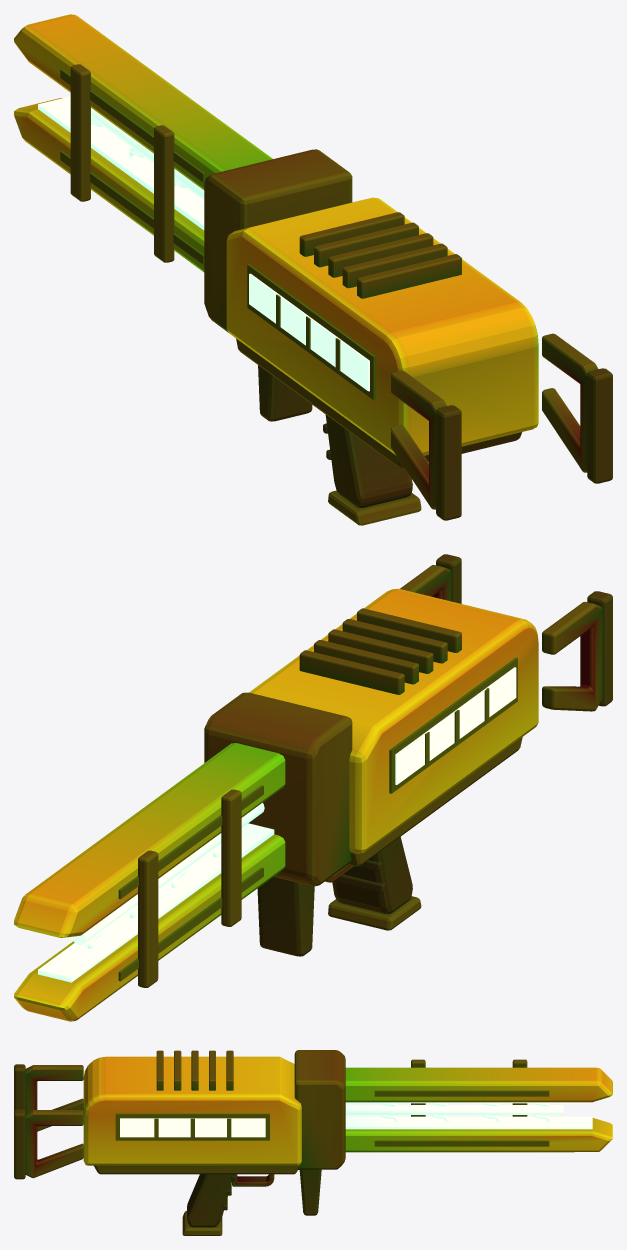
The model's file is titan_weapon_splitter.glb.
3 renders of one model, top to bottom at view 1: azimuth 30°, elevation 25°; view 2: azimuth 150°, elevation 25°; view 3: azimuth 270°, elevation 25°, orthographic. The views are drawn at different scales.
Parts seen in each view (by area): view 1: Body, Glow; view 2: Body, Glow; view 3: Body, Glow.
Boxes of the visible parts, bbox=[...] form: Body: bbox=[14, 14, 612, 525]; Glow: bbox=[38, 96, 369, 391]; Body: bbox=[14, 554, 612, 1021]; Glow: bbox=[38, 667, 516, 982]; Body: bbox=[14, 1050, 612, 1235]; Glow: bbox=[120, 1102, 592, 1137].
Bounding box in the file's own units: 0.732 × 1.09 × 3.65.
